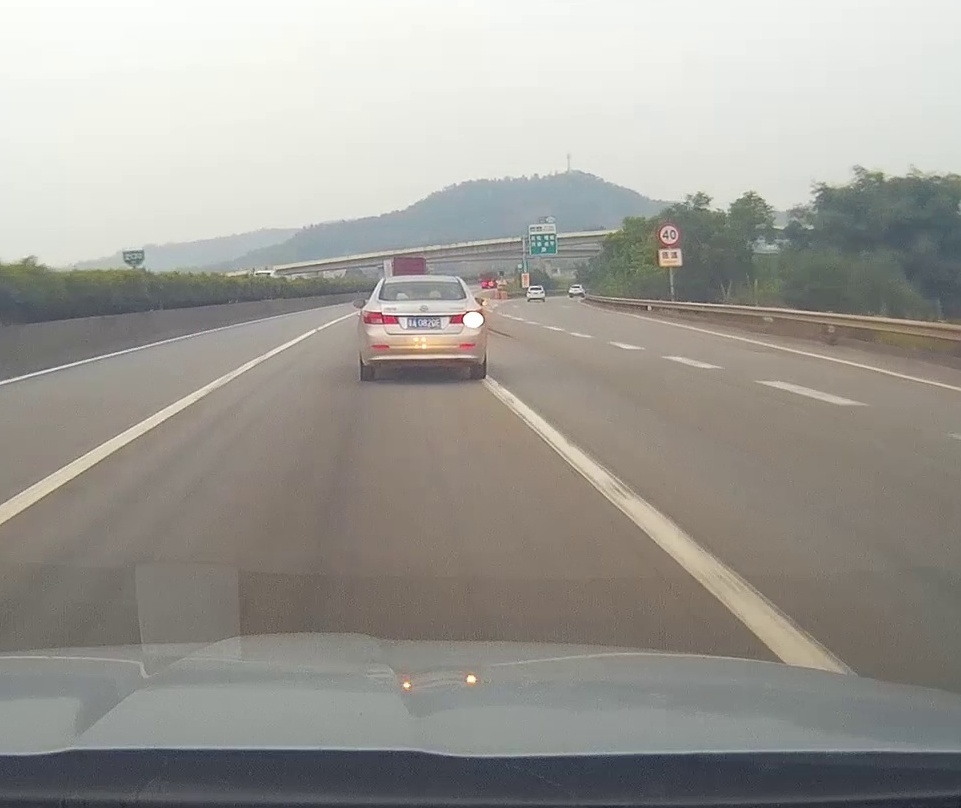L_light: (361, 310, 399, 325)
R_light: (449, 309, 482, 325)
T_light: (413, 282, 433, 285)
day-right: (357, 278, 485, 382)
